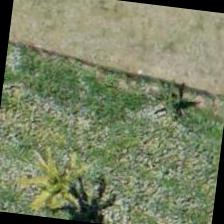Kelapa_Sawit: (10, 138, 108, 223)
